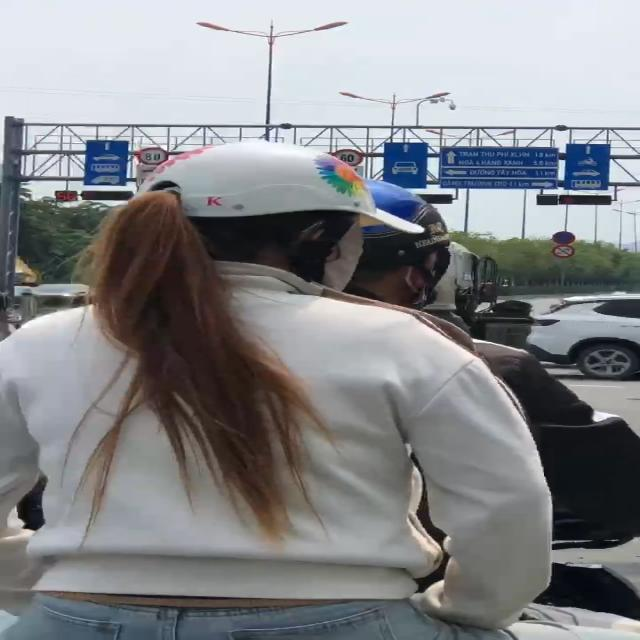Bien bao toc do toi da cho phep: (129, 141, 175, 165)
